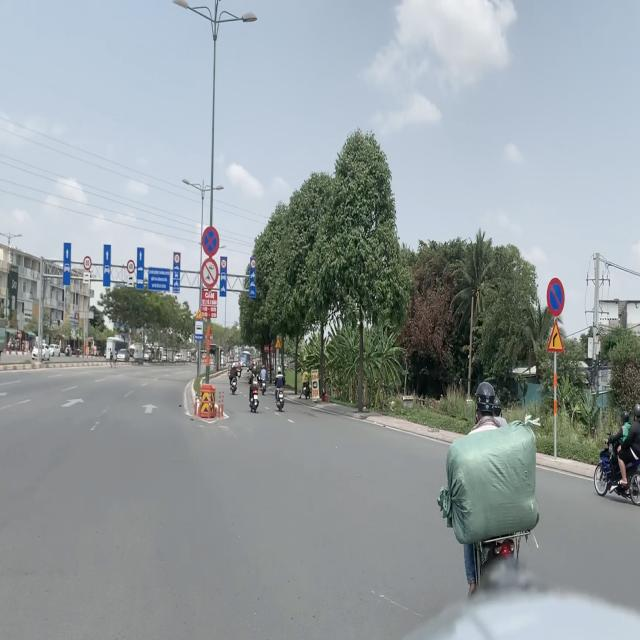Cam do: (546, 277, 565, 317)
Cam dung va do: (201, 226, 220, 256)
Hieu lenh: (195, 320, 203, 340)
Nguoi di bo cat ngang: (274, 337, 282, 349)
Nguy hiem: (547, 318, 565, 352), (196, 307, 203, 320)
Toc do toi da: (83, 256, 92, 270), (127, 259, 135, 274), (221, 258, 227, 268), (174, 254, 180, 263), (251, 259, 256, 268)
